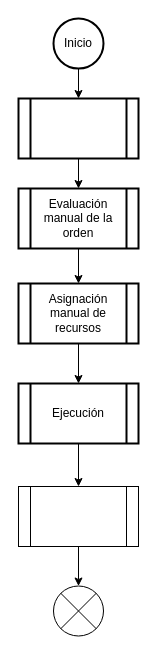
Some shapes in this 156 by 653 pixel diagram are drawn without their labels. Each missing label, with the centre of its shape:
"Cierre y reporte manual" goes at (x=78, y=516).
"Generación de orden de trabajo" goes at (x=78, y=128).
